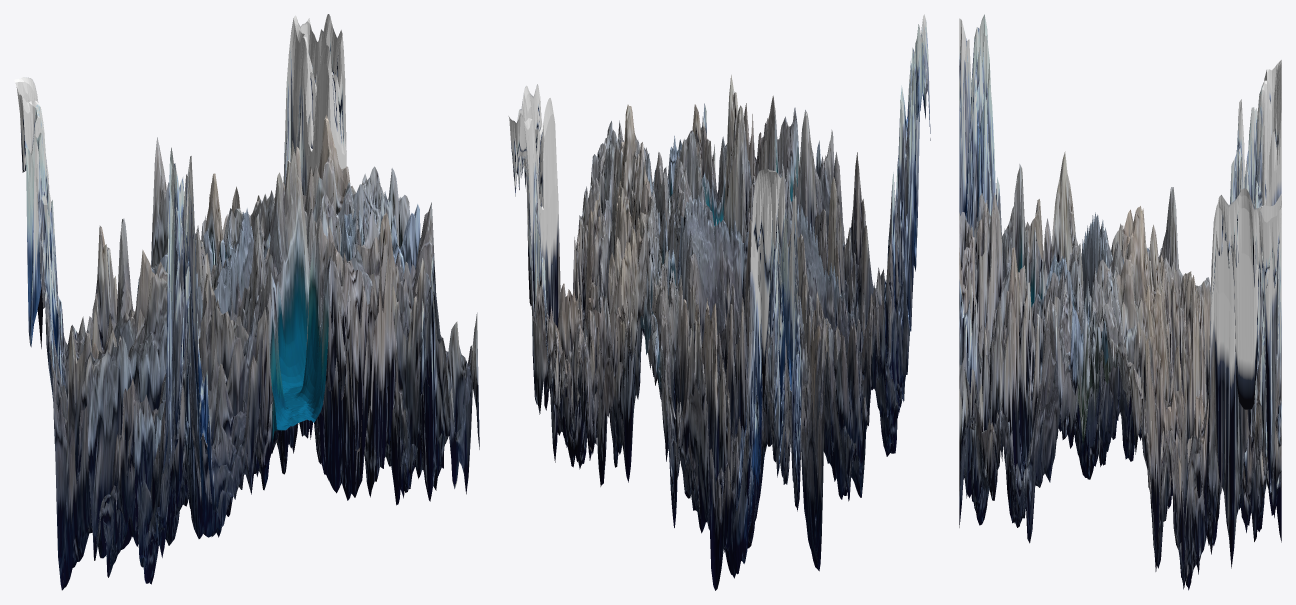
Rendered from terrain-lod3.glb.
3 renders of one model, left to right at view 1: azimuth 30°, elevation 25°; view 2: azimuth 150°, elevation 25°; view 3: azimuth 270°, elevation 25°, orthographic. The views are drawn at different scales.
Visible parts, largest first — view 1: geometry_0; view 2: geometry_0; view 3: geometry_0.
Boxes of the visible parts, x1=… form: geometry_0: x1=14, y1=14, x2=479, y2=590; geometry_0: x1=508, y1=14, x2=930, y2=590; geometry_0: x1=959, y1=14, x2=1281, y2=590.
Size of the model in its own units: 2046 by 3492 by 2046.
Materials: 1 (1 with a texture image).
